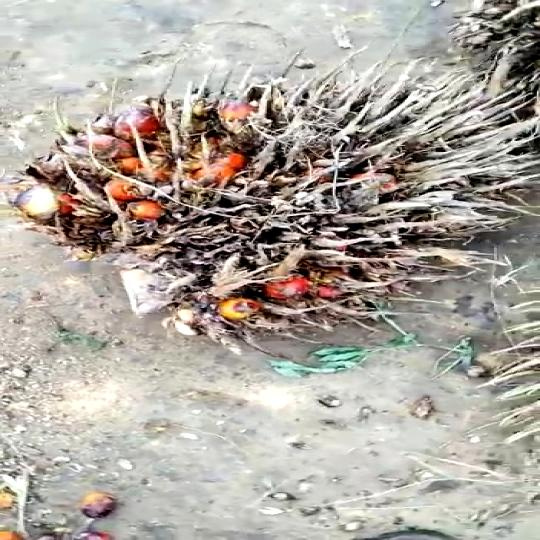terlalu masak: (1, 50, 540, 346)
